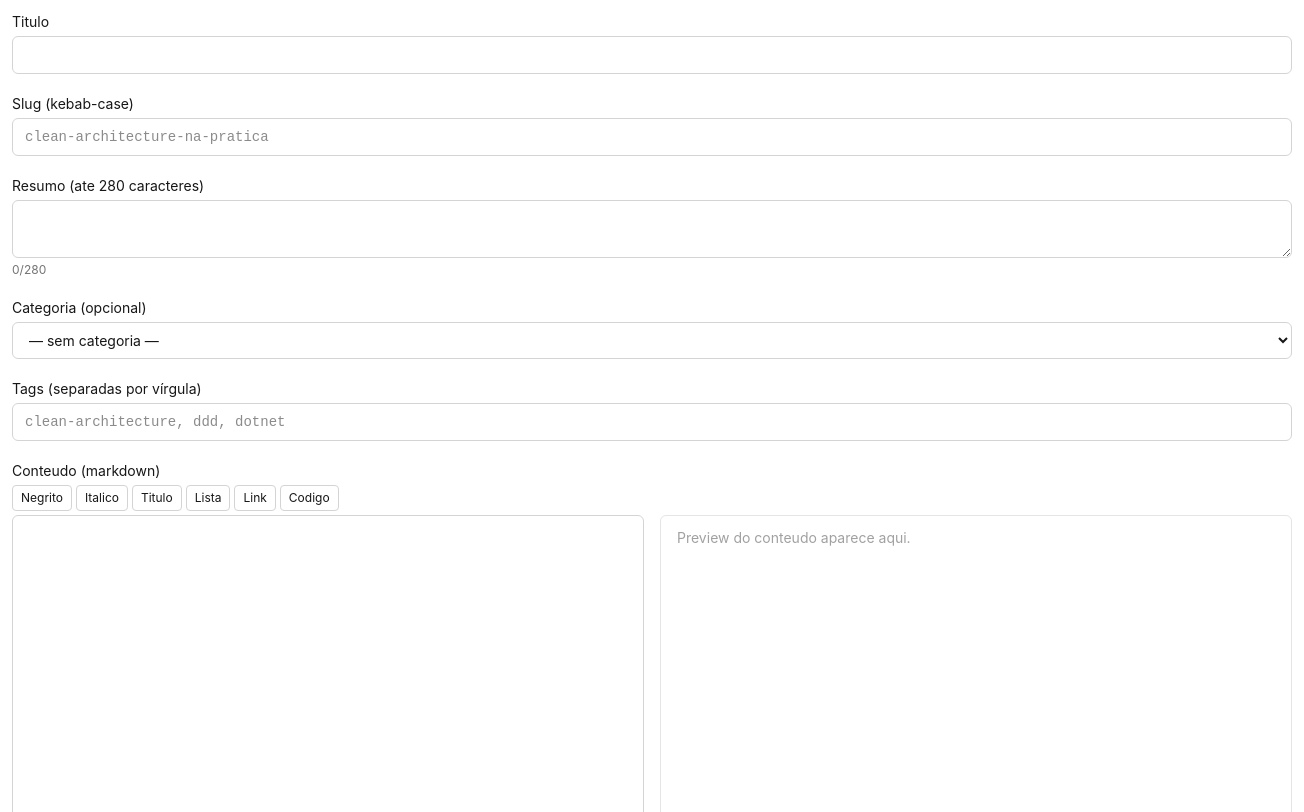
Test: ArtigoEditor › mostra os chips de tag normalizados (kebab-case, sem vazias nem duplicadas)
Type "Clean Architecture, DDD, ddd, ," into the field with placeholder "clean-architecture, ddd, dotnet" at (652, 422), box left=12, top=403, right=1292, bottom=441
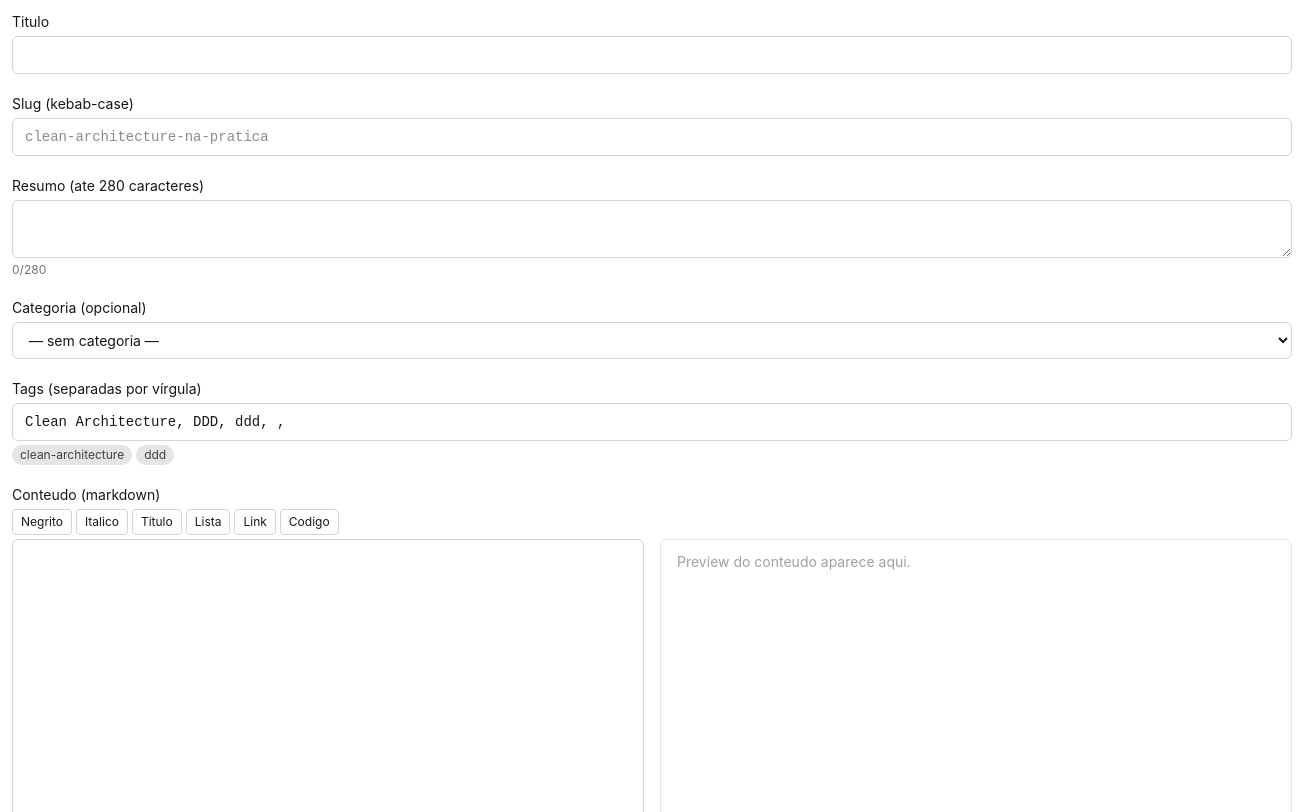
Result: the text "clean-architecture" is shown at left=12, top=445, right=132, bottom=465
Result: the text "ddd" is shown once at left=136, top=445, right=174, bottom=465
